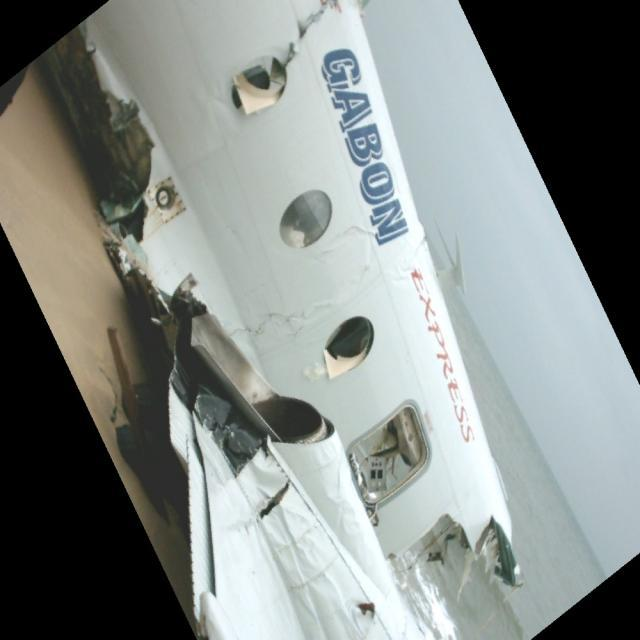crack: (220, 300, 334, 337), (284, 1, 338, 70), (320, 224, 376, 247), (259, 482, 289, 524), (405, 232, 428, 278)
